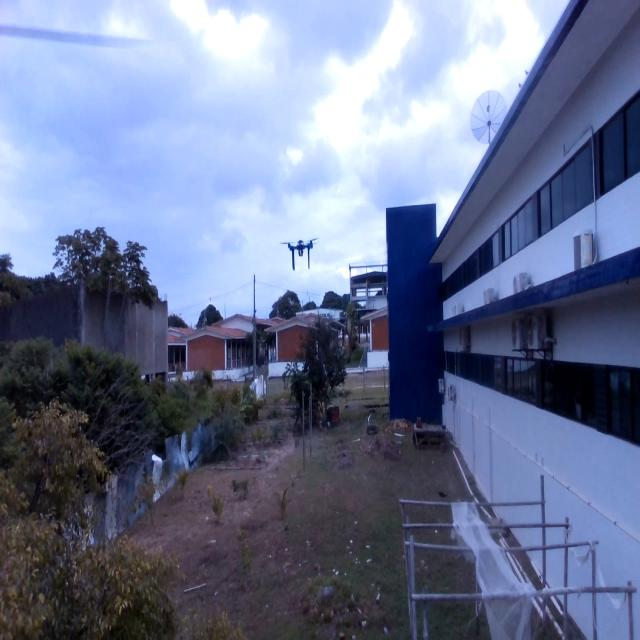-uav-: (275, 228, 324, 283)
